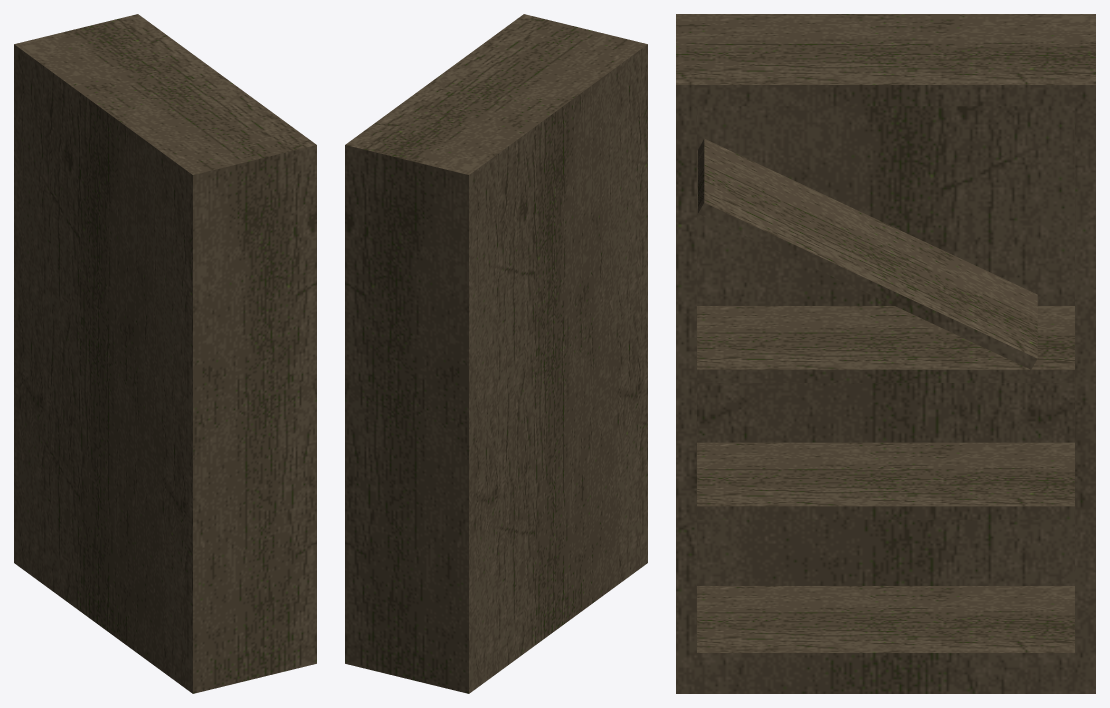
Rendered from shelf.fbx.
3 views of the same model, side by side, from view 1: azimuth 30°, elevation 25°; view 2: azimuth 150°, elevation 25°; view 3: azimuth 270°, elevation 25° (orthographic). The views are drawn at different scales.
Parts seen in each view (by area): view 1: Shelf; view 2: Shelf; view 3: Shelf.
Boxes of the visible parts, box(x1,y1,x2,y2) form: Shelf: box(14, 14, 316, 693); Shelf: box(345, 14, 647, 693); Shelf: box(676, 14, 1095, 693).
Size of the model in its own units: 40 by 160 by 100.
